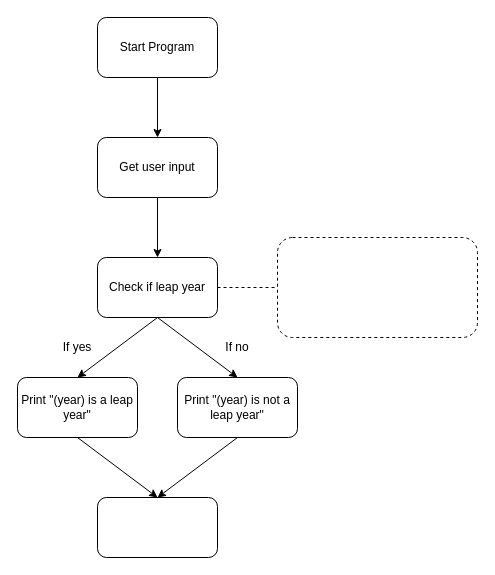
The diagram is 495 pixels wide and 575 high, and some of its shapes have lost their labels. Each missing label, with the centre of its shape:
divisible by4 not evenly divisible by 100 unless also divisible by 400: [377,287]
End program: [157,527]
